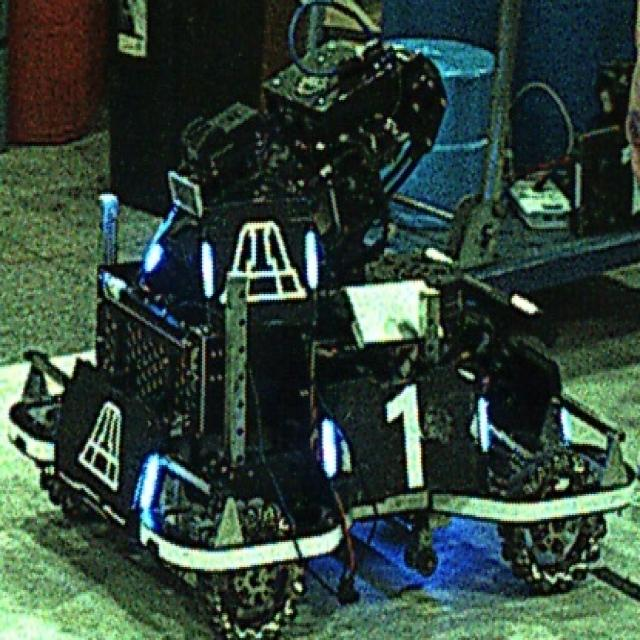B1: (322, 382, 490, 487)
